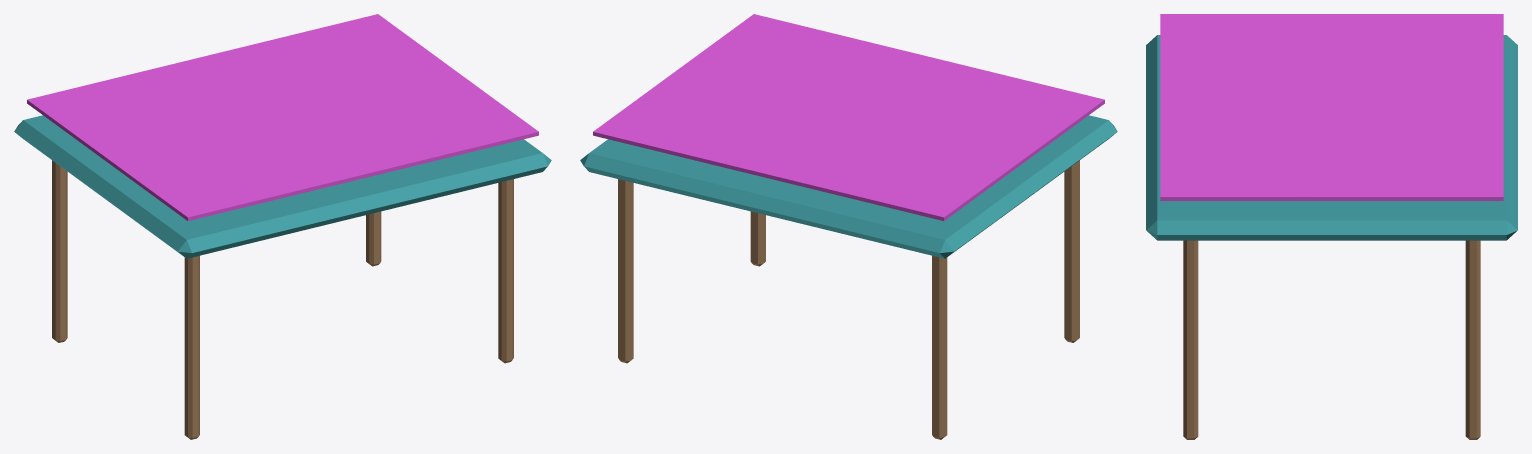
3 renders of one model, left to right at view 1: azimuth 30°, elevation 25°; view 2: azimuth 150°, elevation 25°; view 3: azimuth 270°, elevation 25°, orthographic. The views are drawn at different scales.
Parts seen in each view (by area): view 1: NAV_MASK_PICNIC_SHELTER, LOD2_PICNIC_SHELTER_Roof, LOD2_PICNIC_SHELTER_Post, LOD2_PICNIC_SHELTER_Post.002, LOD2_PICNIC_SHELTER_Post.001, LOD2_PICNIC_SHELTER_Post.003; view 2: NAV_MASK_PICNIC_SHELTER, LOD2_PICNIC_SHELTER_Roof, LOD2_PICNIC_SHELTER_Post.001, LOD2_PICNIC_SHELTER_Post.003, LOD2_PICNIC_SHELTER_Post, LOD2_PICNIC_SHELTER_Post.002; view 3: NAV_MASK_PICNIC_SHELTER, LOD2_PICNIC_SHELTER_Roof, LOD2_PICNIC_SHELTER_Post.002, LOD2_PICNIC_SHELTER_Post.003.
Boxes of the visible parts, bbox=[...] form: NAV_MASK_PICNIC_SHELTER: bbox=[27, 14, 538, 220]; LOD2_PICNIC_SHELTER_Roof: bbox=[14, 115, 551, 258]; LOD2_PICNIC_SHELTER_Post: bbox=[184, 255, 199, 439]; LOD2_PICNIC_SHELTER_Post.002: bbox=[498, 179, 513, 363]; LOD2_PICNIC_SHELTER_Post.001: bbox=[52, 160, 67, 342]; LOD2_PICNIC_SHELTER_Post.003: bbox=[366, 211, 381, 266]; NAV_MASK_PICNIC_SHELTER: bbox=[593, 14, 1104, 220]; LOD2_PICNIC_SHELTER_Roof: bbox=[580, 115, 1117, 258]; LOD2_PICNIC_SHELTER_Post.001: bbox=[932, 255, 947, 439]; LOD2_PICNIC_SHELTER_Post.003: bbox=[618, 179, 633, 363]; LOD2_PICNIC_SHELTER_Post: bbox=[1064, 160, 1079, 342]; LOD2_PICNIC_SHELTER_Post.002: bbox=[750, 211, 765, 266]; NAV_MASK_PICNIC_SHELTER: bbox=[1160, 14, 1503, 200]; LOD2_PICNIC_SHELTER_Roof: bbox=[1146, 35, 1517, 240]; LOD2_PICNIC_SHELTER_Post.002: bbox=[1183, 240, 1198, 439]; LOD2_PICNIC_SHELTER_Post.003: bbox=[1465, 240, 1480, 439].
Size of what is drawn, in the model's own units: 6.2 by 3.73 by 5.
